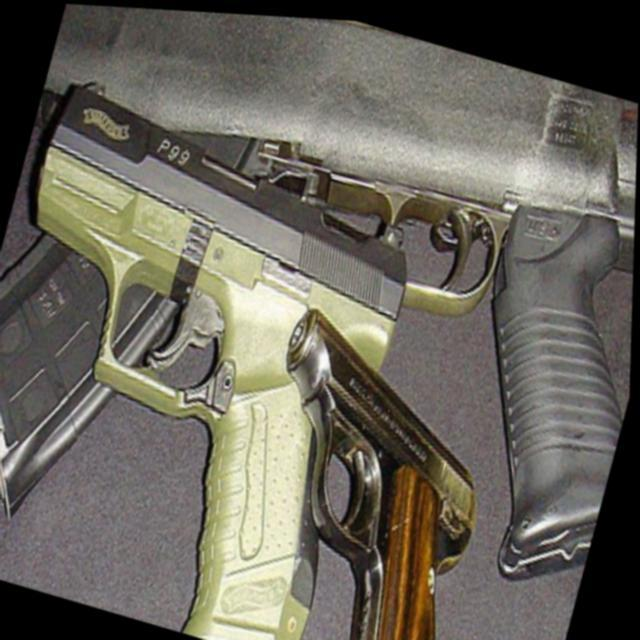weapon: (0, 61, 565, 640)
